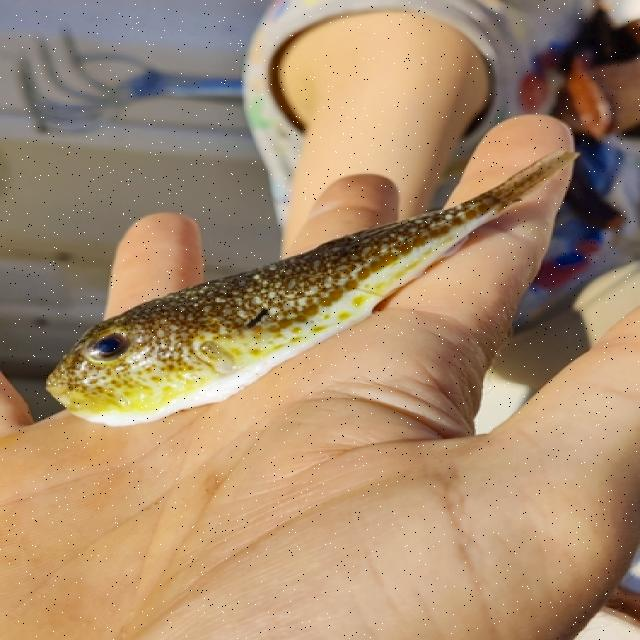Balik: (48, 152, 576, 426)
